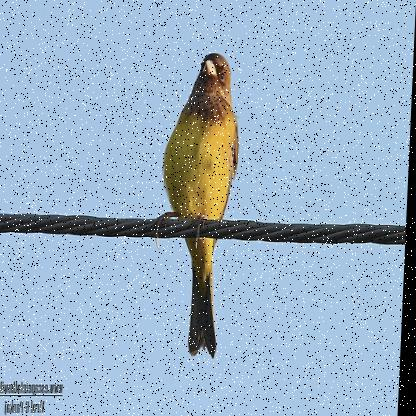Burung: (152, 56, 245, 360)
